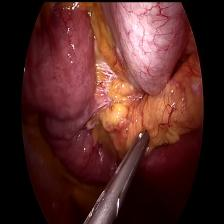Grasper: (84, 128, 150, 223)
